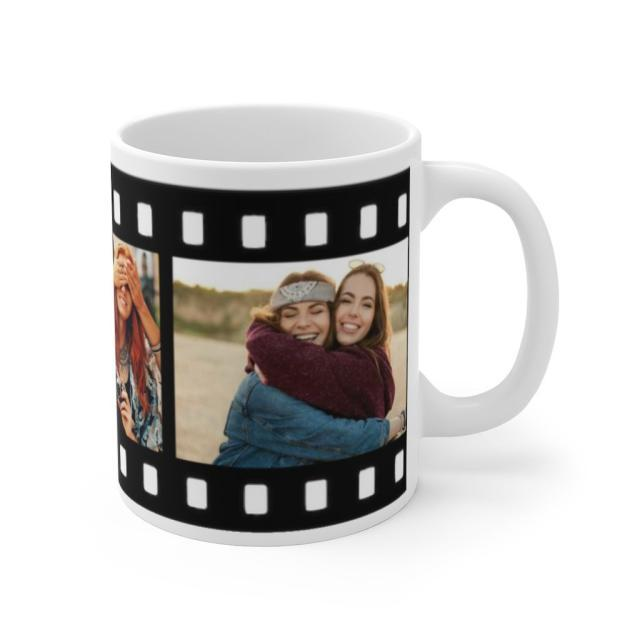Coffee Mug: (108, 99, 562, 549)
